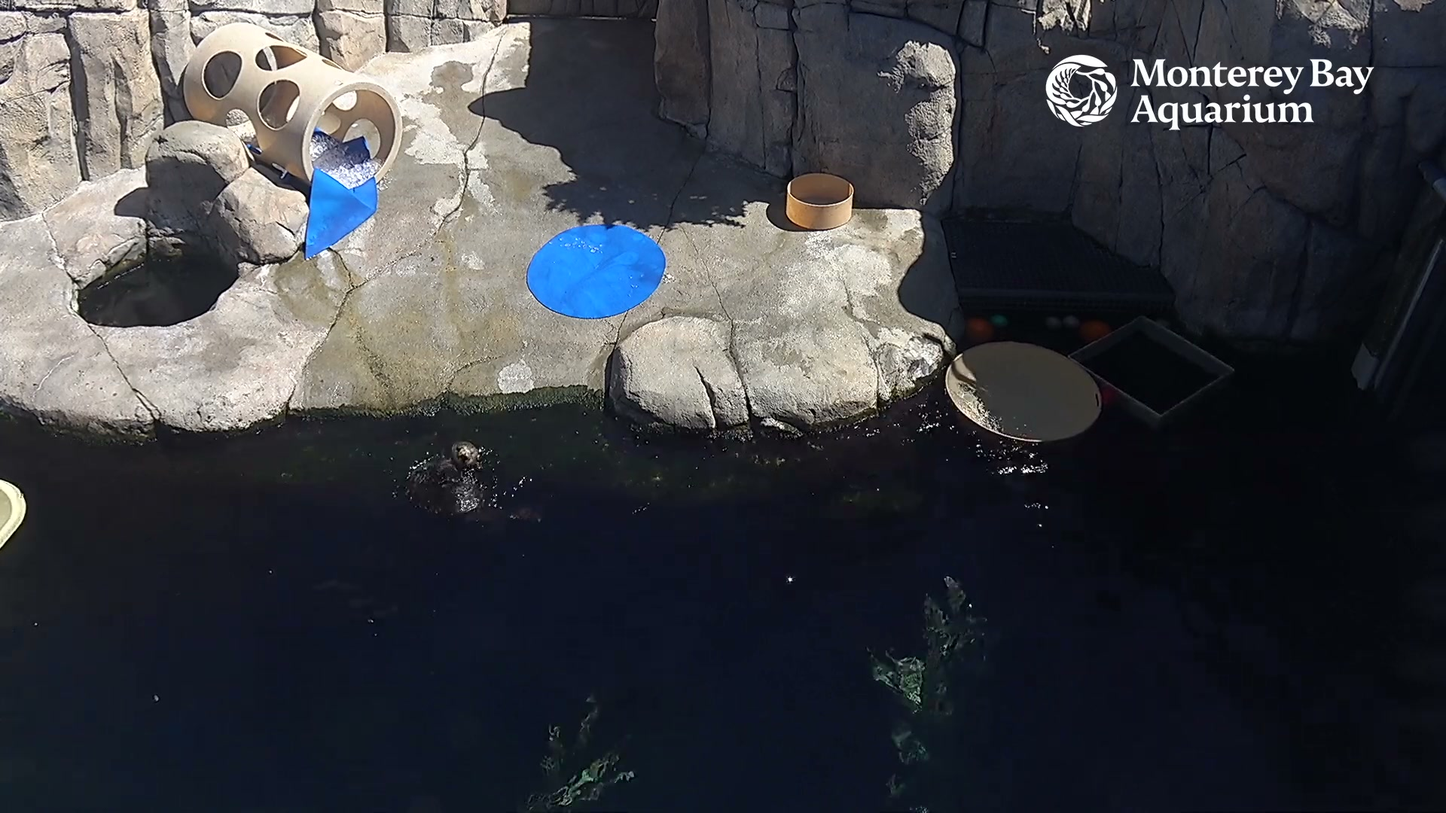Southern Sea Otter: (368, 412, 551, 566)
